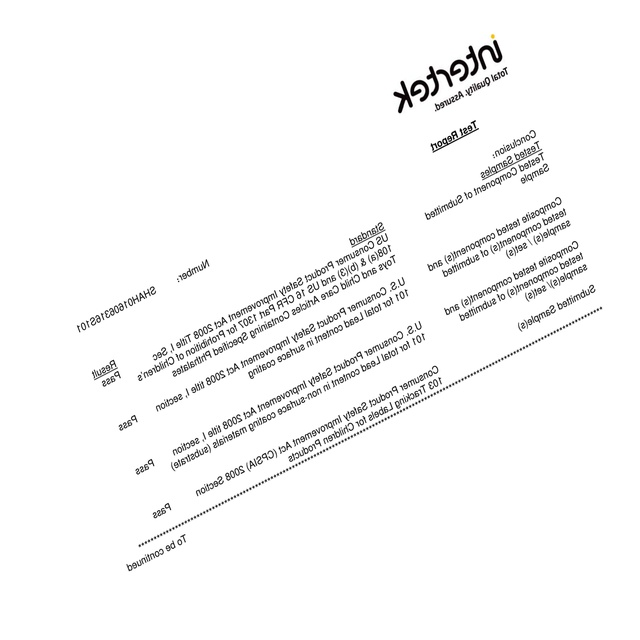intertek: (391, 33, 506, 116)
